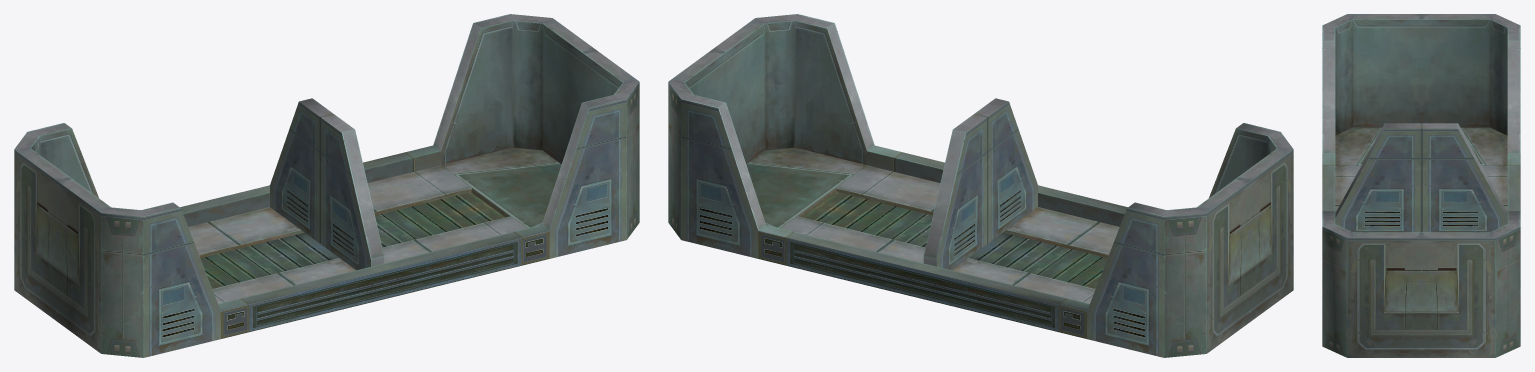
File: all_item_con_storage_skid.glb
3 renders of one model, left to right at view 1: azimuth 30°, elevation 25°; view 2: azimuth 150°, elevation 25°; view 3: azimuth 270°, elevation 25°, orthographic. The views are drawn at different scales.
Parts seen in each view (by area): view 1: all_item_con_storage_skid; view 2: all_item_con_storage_skid; view 3: all_item_con_storage_skid.
Part boxes in pixels (box(x1,y1,x2,y2)): all_item_con_storage_skid: box(14, 14, 639, 357); all_item_con_storage_skid: box(668, 14, 1293, 357); all_item_con_storage_skid: box(1322, 14, 1520, 357).
Bounding box in the file's own units: 0.8003 × 0.2 × 0.3.
1 material, 1 textured.
